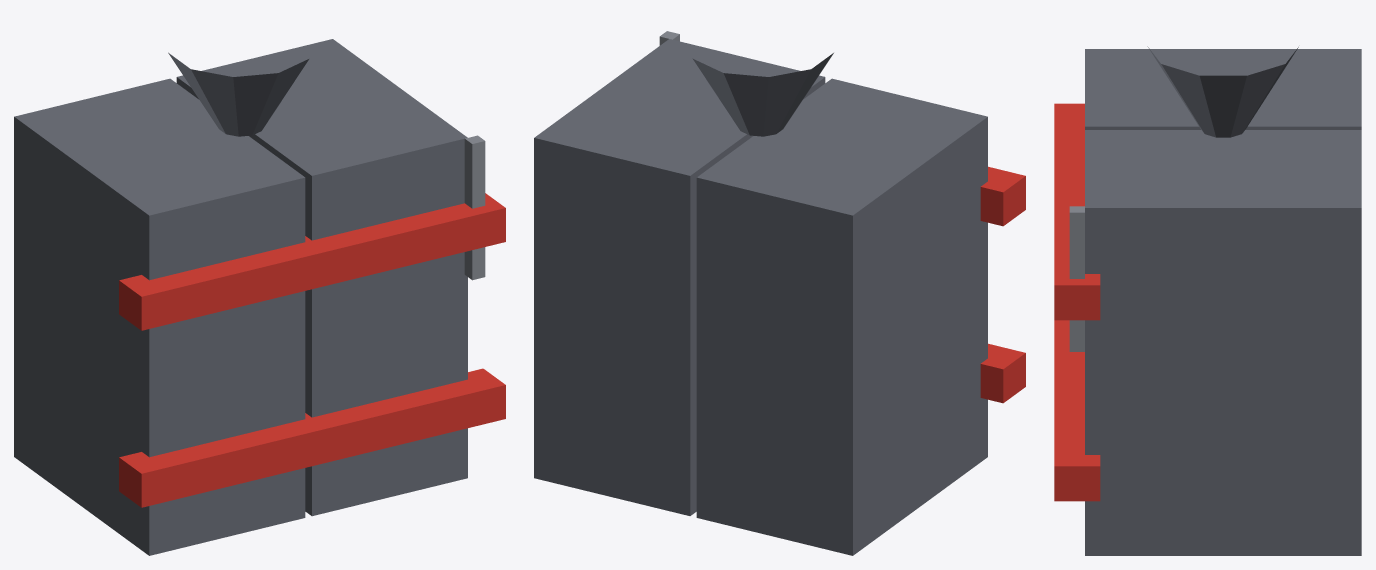
The model's file is bowl_lead_mold.glb.
The picture shows the model from 3 angles, left to right: view 1: azimuth 30°, elevation 25°; view 2: azimuth 150°, elevation 25°; view 3: azimuth 270°, elevation 25°; orthographic projection. The views are drawn at different scales.
Parts seen in each view (by area): view 1: half_mold_iron, clamp_mold_clamp, funnel_mold_iron, drip_lead_grey; view 2: half_mold_iron, funnel_mold_iron, clamp_mold_clamp; view 3: half_mold_iron, clamp_mold_clamp, funnel_mold_iron, drip_lead_grey.
Part boxes in pixels (box(x1,y1,x2,y2)): half_mold_iron: box(14, 39, 467, 555); clamp_mold_clamp: box(119, 193, 505, 507); funnel_mold_iron: box(168, 52, 308, 136); drip_lead_grey: box(464, 135, 485, 280); half_mold_iron: box(534, 39, 987, 555); funnel_mold_iron: box(692, 53, 833, 136); clamp_mold_clamp: box(980, 166, 1025, 403); half_mold_iron: box(1085, 49, 1361, 555); clamp_mold_clamp: box(1054, 103, 1100, 501); funnel_mold_iron: box(1147, 46, 1298, 137); drip_lead_grey: box(1069, 206, 1084, 351).
Bounding box in the file's own units: 0.56 × 0.62 × 0.4.
